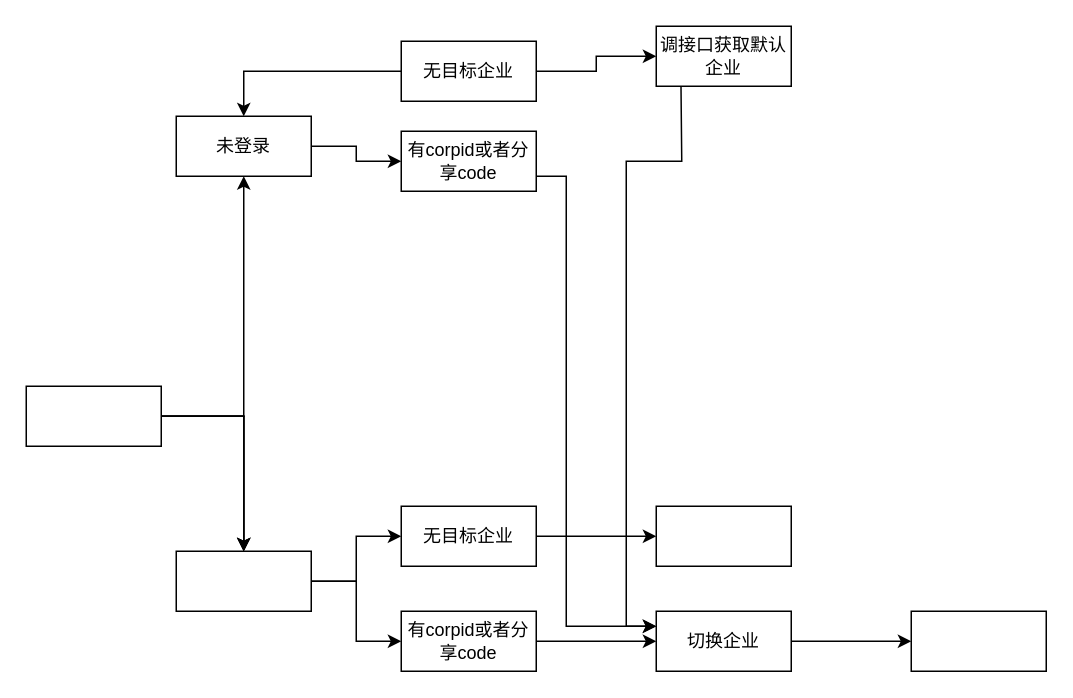
Image size: 1073x698. Some labels were removed from this diagram. The shapes that lost their labels are listed below. From the top down, each one's centre as x and y in pixels, then its label:
At (93,415): "APP".
At (723,535): "上次打开的企业".
At (243,580): "已登录".
At (978,640): "展示目标企业信息".
